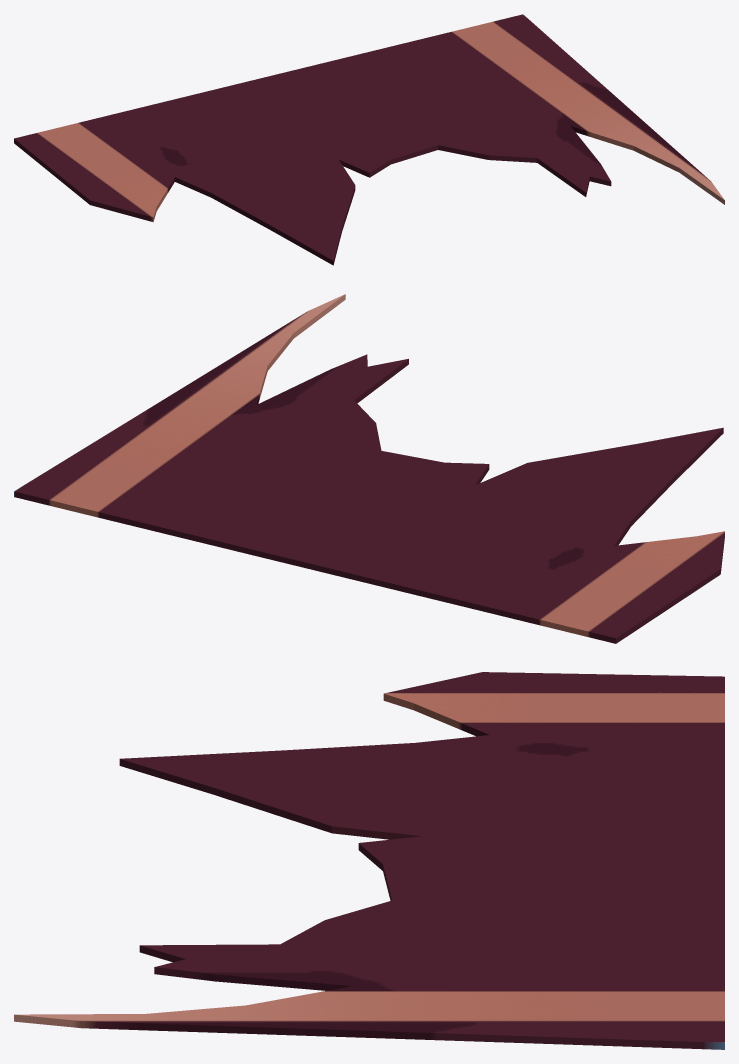
File: Carpet 01 End 01.fbx
3 views of the same model, one above another, from view 1: azimuth 30°, elevation 25°; view 2: azimuth 150°, elevation 25°; view 3: azimuth 270°, elevation 25° (orthographic). The views are drawn at different scales.
Parts seen in each view (by area): view 1: Carpet 01 End 01.001; view 2: Carpet 01 End 01.001; view 3: Carpet 01 End 01.001.
Part boxes in pixels (x1,y1,x2,y2): Carpet 01 End 01.001: [14, 14, 724, 265]; Carpet 01 End 01.001: [14, 294, 724, 643]; Carpet 01 End 01.001: [14, 672, 724, 1049].
Size of the model in its own units: 169 by 1.5 by 137.
